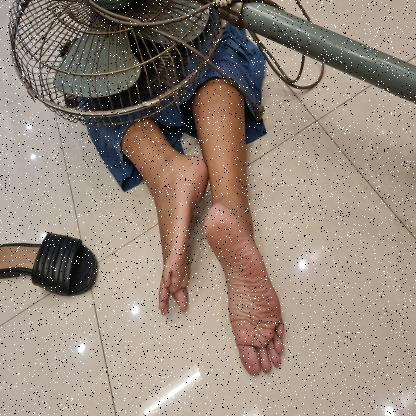leg: (194, 82, 289, 382), (122, 115, 210, 324)
